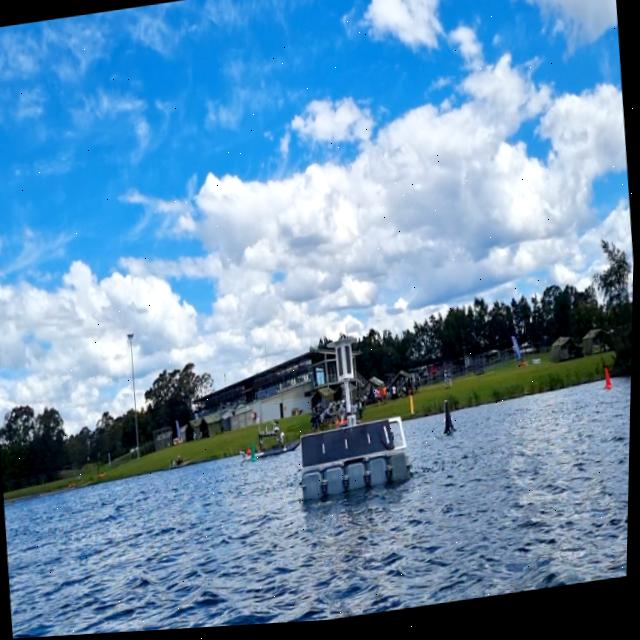led: (337, 348, 355, 383), (344, 348, 355, 380), (337, 350, 347, 382)
